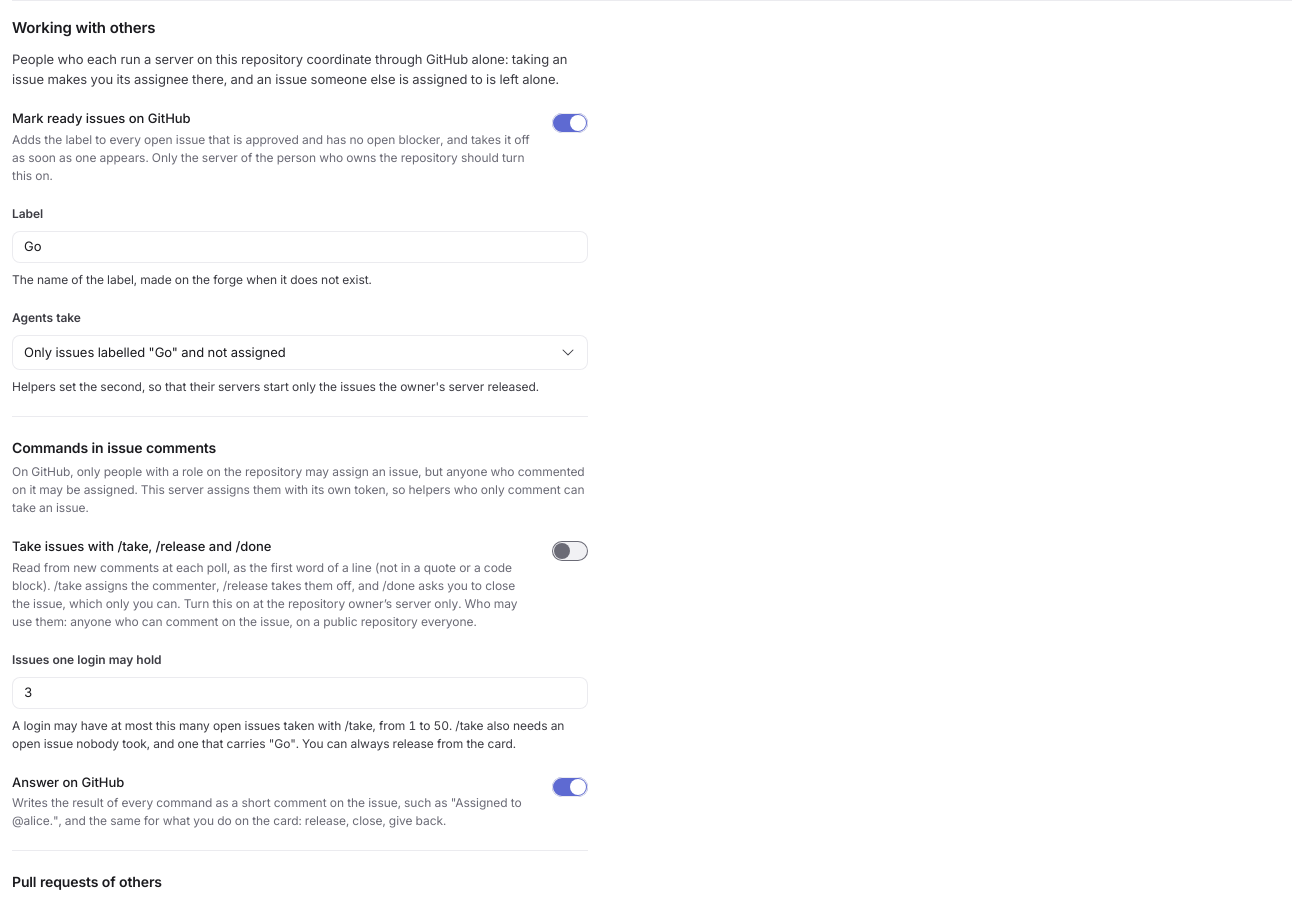
Test: the repository's working with others › shows what the repository has, and says the server's reason when it refuses
The width and height of the screenshot is (1292, 900).
Replace the text in the field labelled "Label" with "x". click: x=300, y=246
box: [12,230,588,262]
(page scrolled)
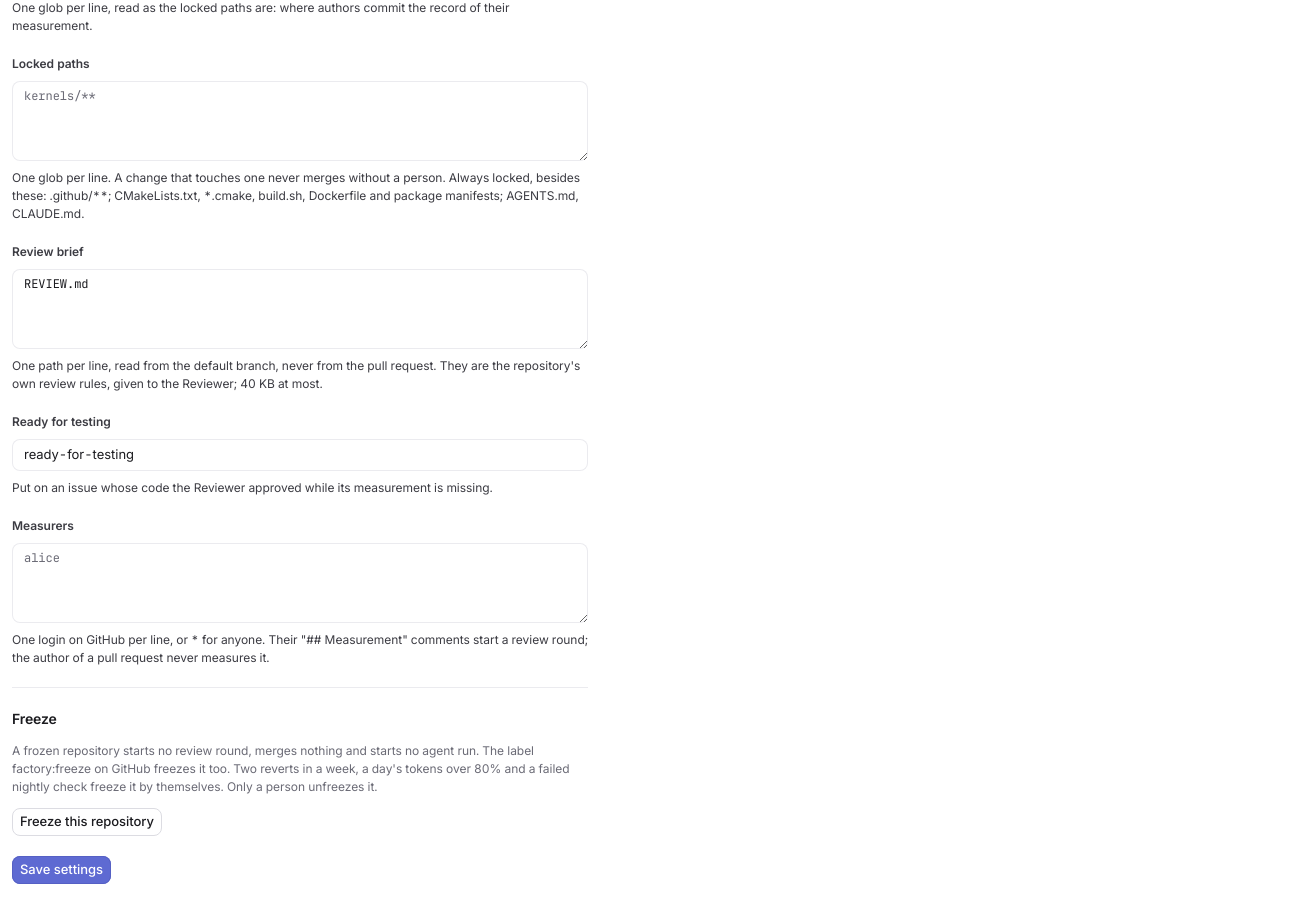
Click the button "Save settings". click: x=62, y=870
box: [12,856,111,884]
(page scrolled)
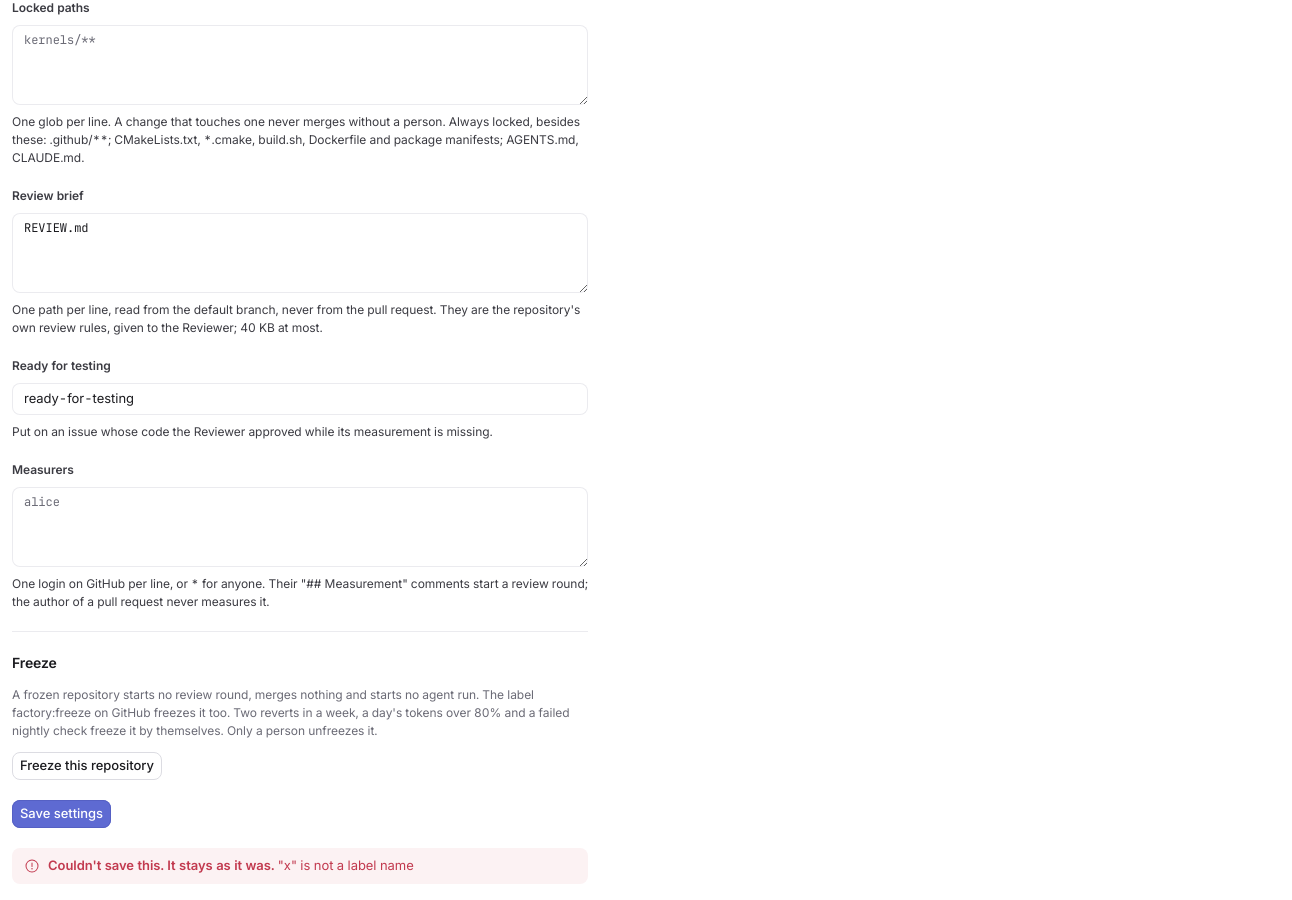
Expected: the text "Couldn't save this. It stays as it was." is shown, [48,857,278,873]
